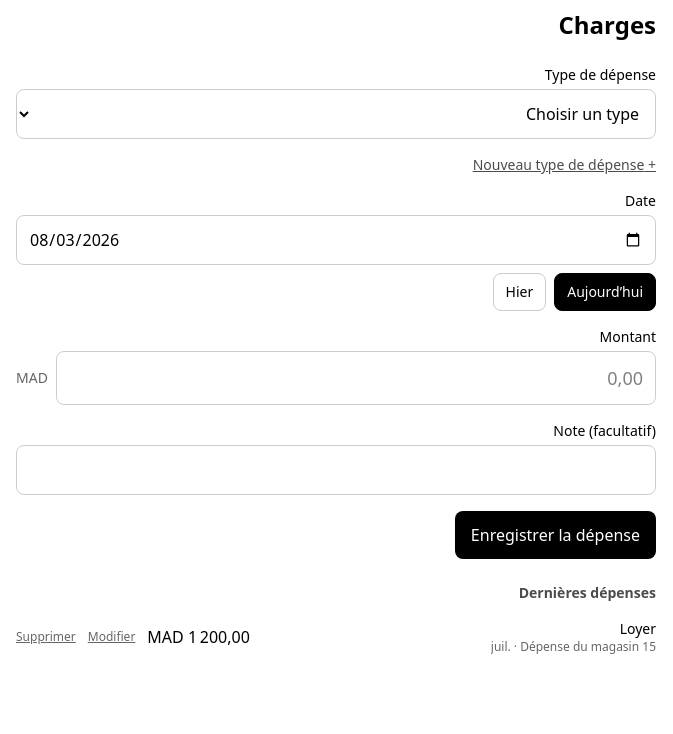
editing an existing charge (domain-spec §8.5) › cancelling leaves the record alone and empties the form
Click the button with aria-label "Modifier — Loyer" at (112,637), box [88,629,135,645]
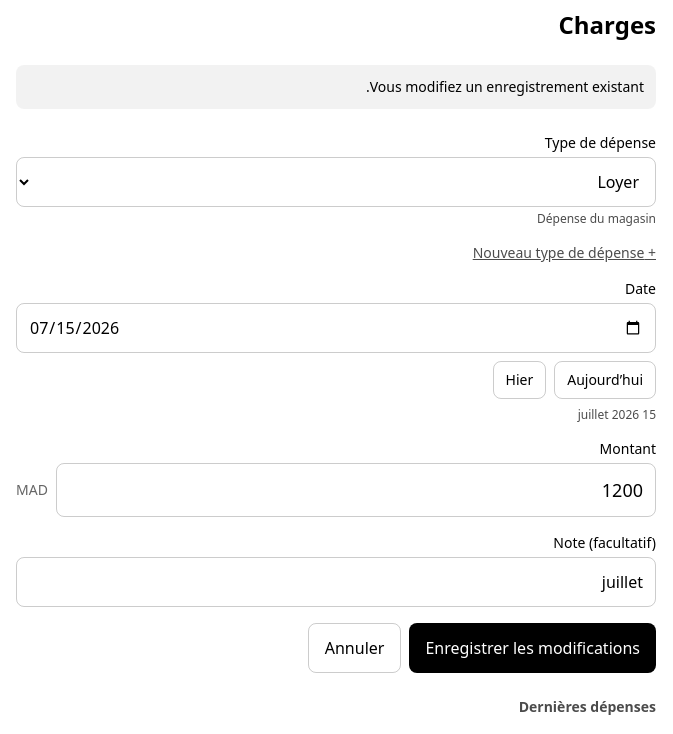
Click the button "Annuler" at (355,648), box [308,623,402,673]
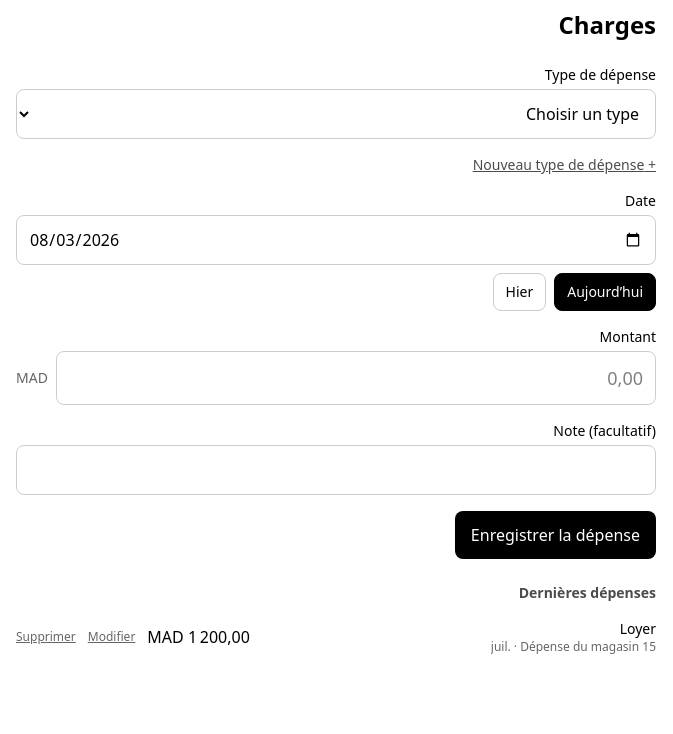
Now the field labelled "Montant" is empty, box [56,351,656,405]
Now the button "Enregistrer la dépense" is shown, box [455,511,656,559]
